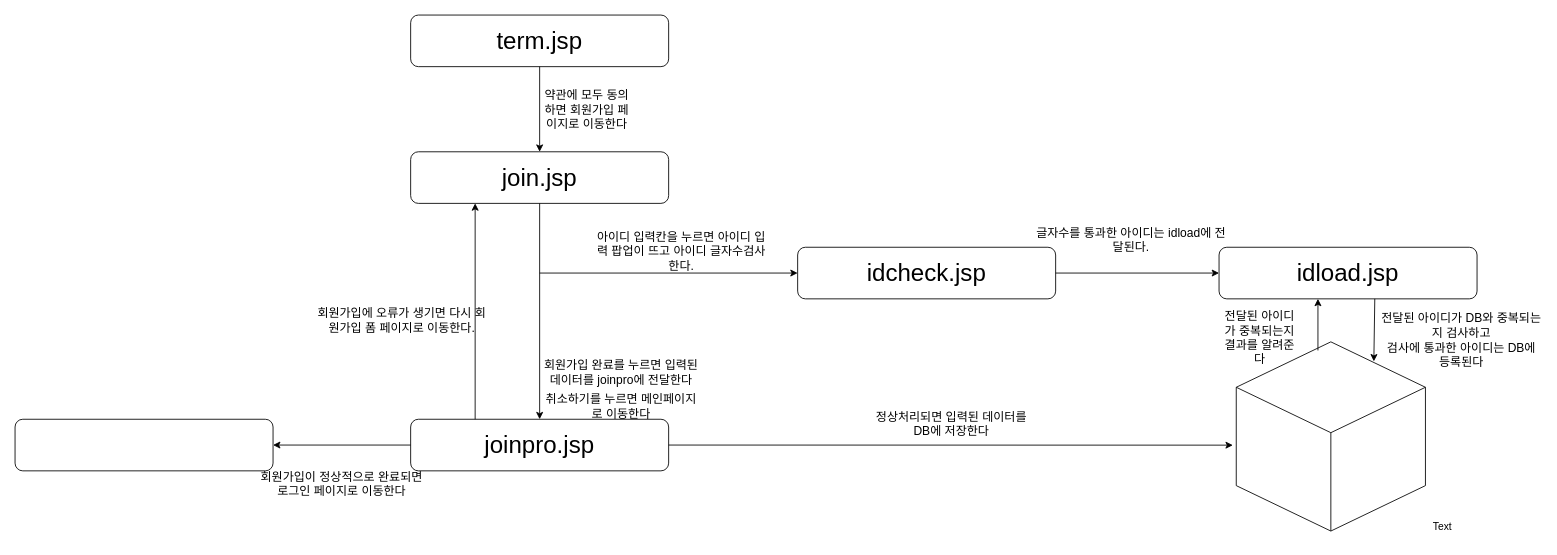
Image size: 1557x555. Some labels were removed from this diagram. The centre of each missing label's shape, as x and y in pixels:
login.jsp: [143,444]
Member DB: [1330,436]
